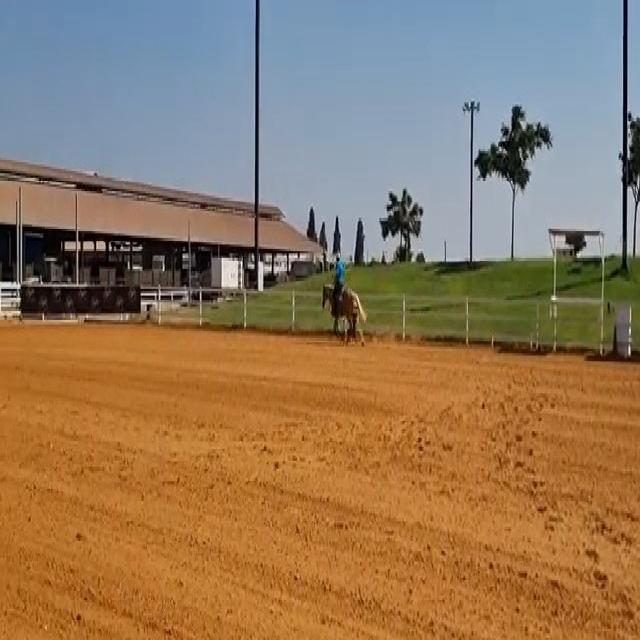horse: (320, 278, 365, 344)
